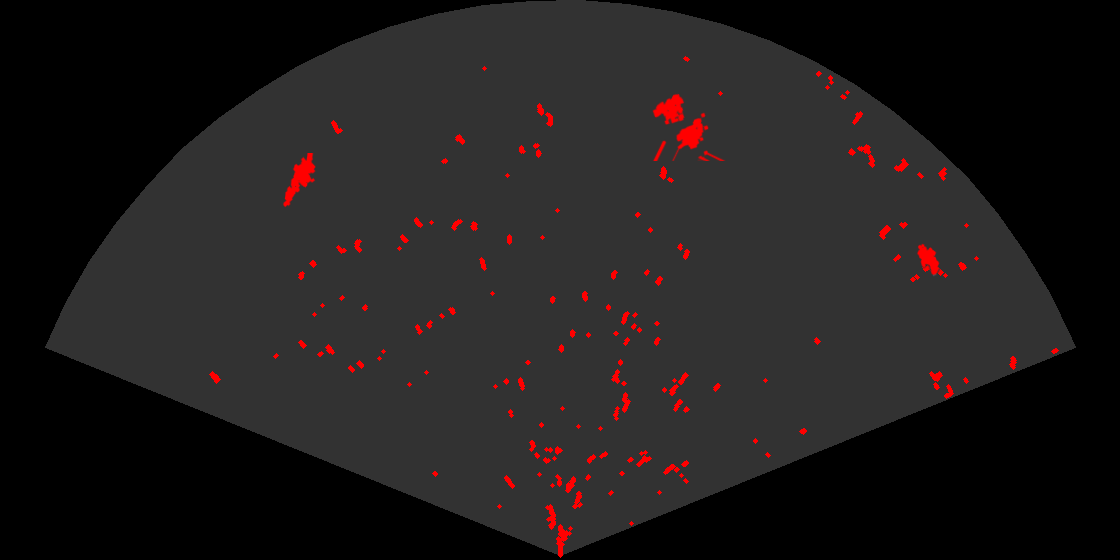AUV: (915, 242, 941, 277)
cage: (651, 92, 727, 161)
frogman: (282, 153, 317, 209)
